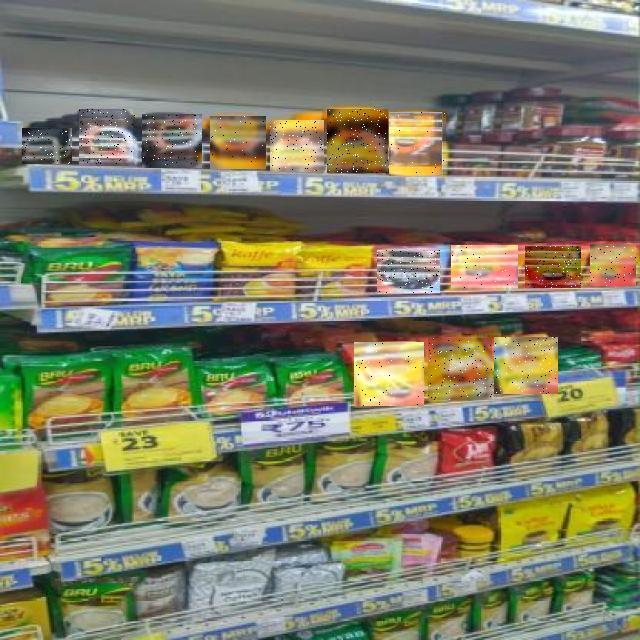Coffee: (354, 342, 424, 406), (428, 338, 492, 400), (327, 109, 388, 173), (494, 337, 558, 394), (390, 112, 446, 176), (143, 114, 203, 168), (80, 110, 136, 166), (211, 116, 267, 169), (451, 246, 518, 290), (270, 120, 324, 172), (377, 250, 440, 293), (525, 246, 581, 288), (590, 245, 636, 287), (22, 128, 72, 164)
